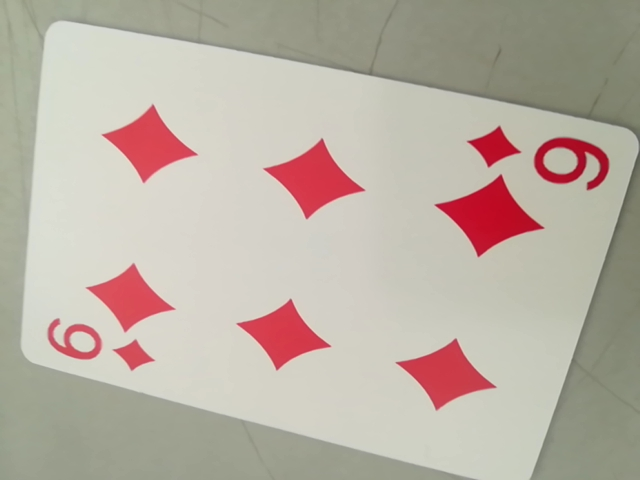fk 6: (462, 127, 611, 190), (34, 317, 161, 378)
